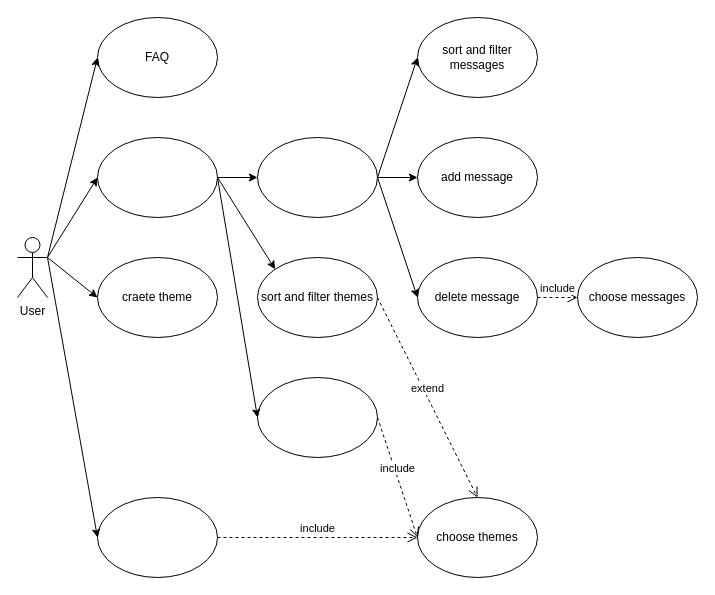
Some shapes in this 715 by 595 pixel diagram are drawn without their labels. The shapes that lost their labels are listed below. From the top down, each one's centre as x and y in pixels, then its label:
(x=157, y=177): see themes
(x=317, y=177): choose theme
(x=317, y=417): delete themes
(x=157, y=537): add message in themes
